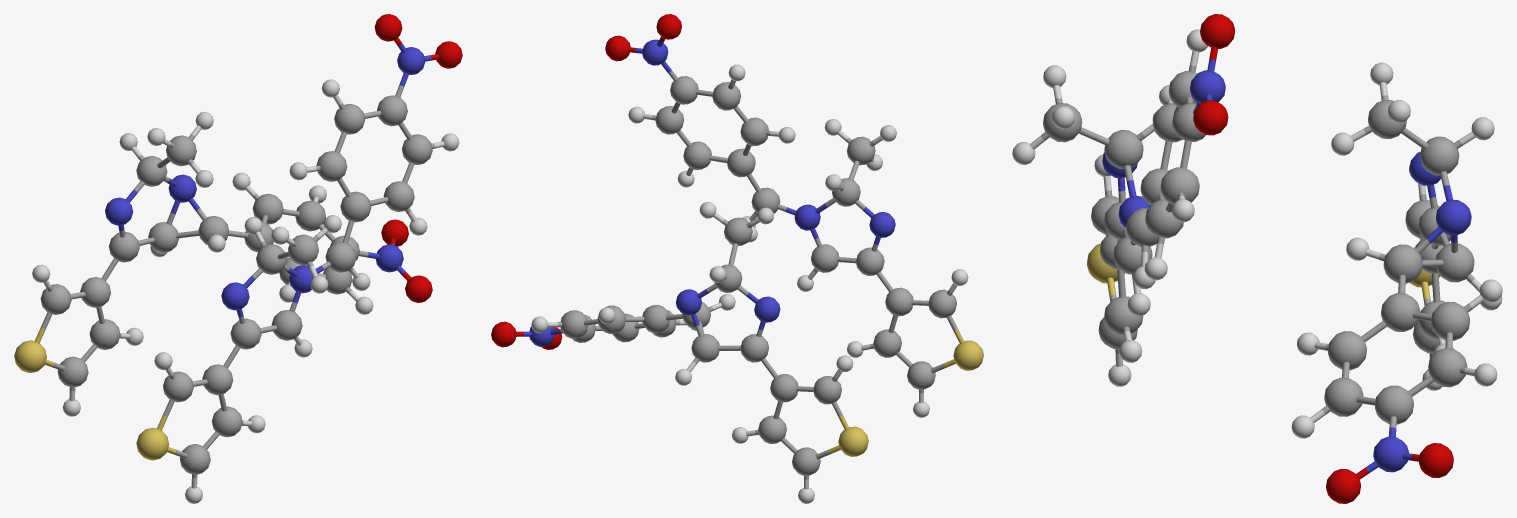
Rendered from thiopheneA.glb.
The picture shows the model from 3 angles, left to right: view 1: azimuth 30°, elevation 25°; view 2: azimuth 150°, elevation 25°; view 3: azimuth 270°, elevation 25°; orthographic projection. The views are drawn at different scales.
Visible parts, largest first — view 1: Th-BA-strA; view 2: Th-BA-strA; view 3: Th-BA-strA.
Part boxes in pixels (box(x1,y1,x2,y2)): Th-BA-strA: box(14, 14, 462, 503); Th-BA-strA: box(491, 14, 983, 503); Th-BA-strA: box(1012, 14, 1502, 503).
Bounding box in the file's own units: 1.65 × 1.61 × 1.38.
